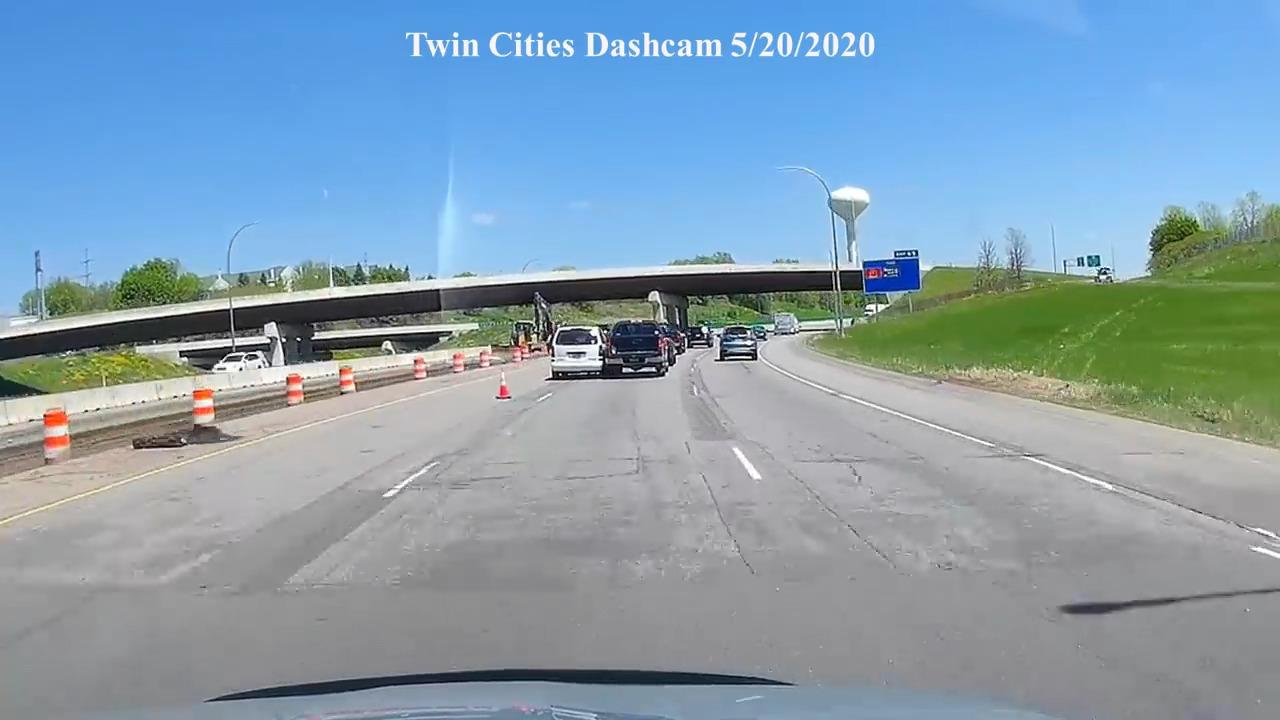car: (548, 325, 607, 380), (718, 327, 758, 362), (211, 350, 269, 373)
traffic cone: (285, 374, 305, 406), (337, 365, 357, 395), (495, 371, 512, 401), (451, 351, 466, 373), (413, 356, 427, 379), (479, 348, 492, 368)
